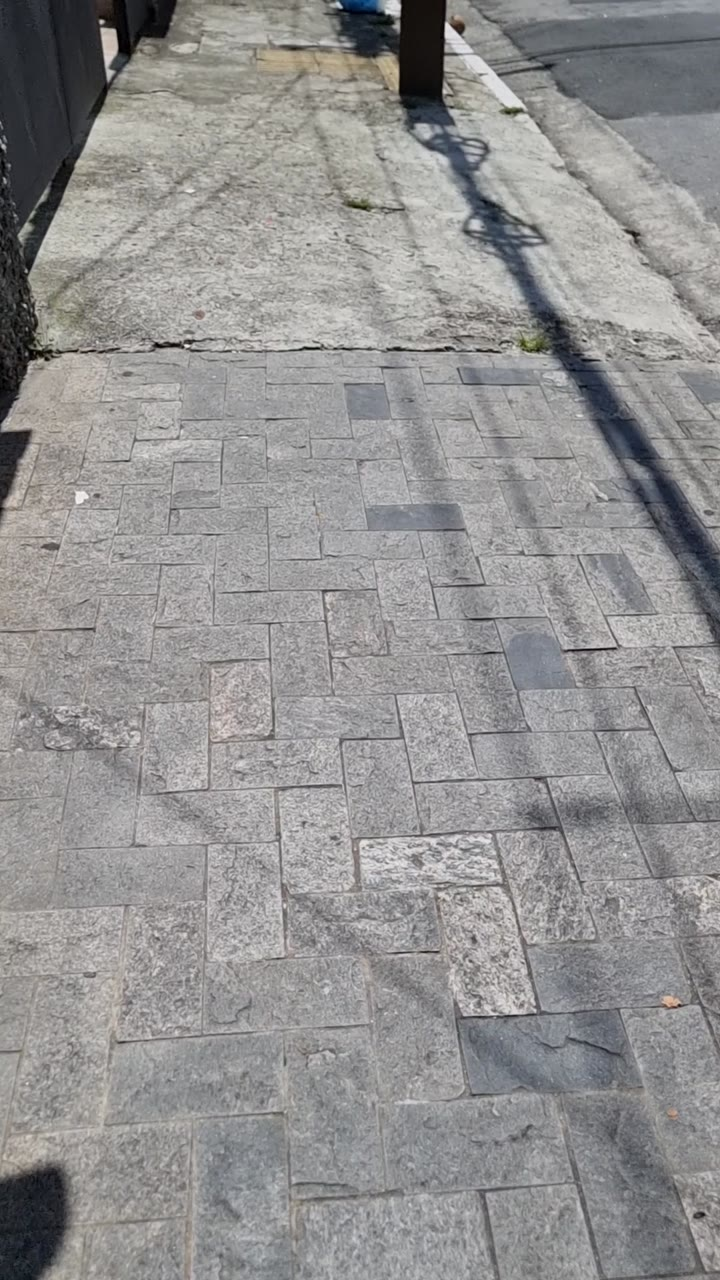desnivel: (36, 333, 720, 410)
obstaculo: (396, 0, 454, 102)
